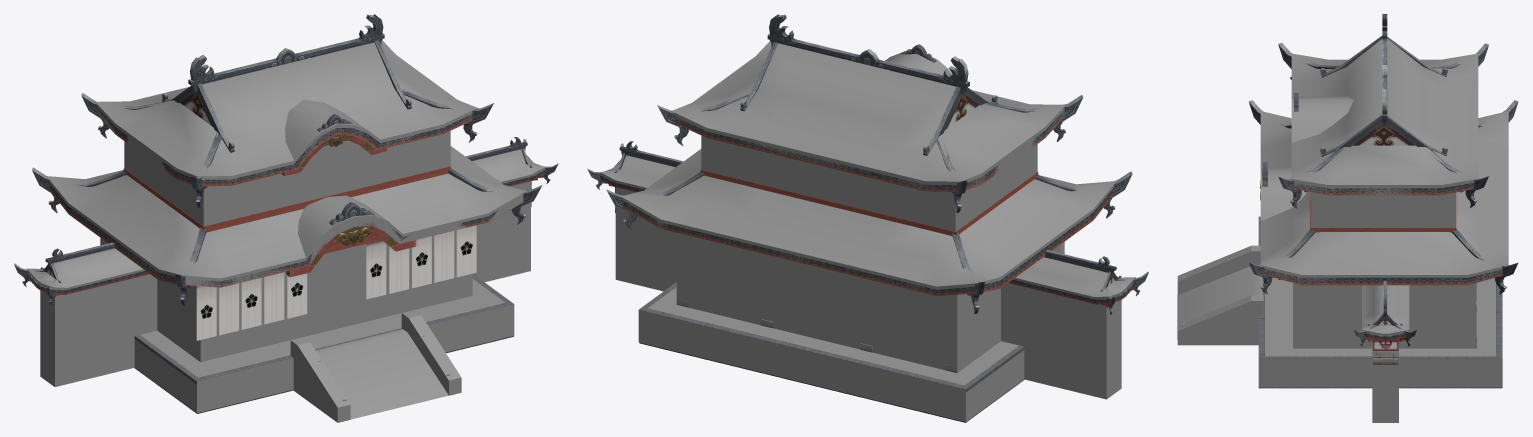
File: Scene_Build_LiangShan_ZhuDian_1.FBX
3 views of the same model, side by side, from view 1: azimuth 30°, elevation 25°; view 2: azimuth 150°, elevation 25°; view 3: azimuth 270°, elevation 25° (orthographic). The views are drawn at different scales.
Parts seen in each view (by area): view 1: Scene_Build_LiangShan_ZhuDian_1_Xzm, Scene_Build_LiangShan_ZhuDian_1a, Scene_Build_LiangShan_ZhuDian_1b; view 2: Scene_Build_LiangShan_ZhuDian_1_Xzm, Scene_Build_LiangShan_ZhuDian_1a, Scene_Build_LiangShan_ZhuDian_1b; view 3: Scene_Build_LiangShan_ZhuDian_1_Xzm, Scene_Build_LiangShan_ZhuDian_1a, Scene_Build_LiangShan_ZhuDian_1b.
Part boxes in pixels (bbox=[...]): Scene_Build_LiangShan_ZhuDian_1_Xzm: bbox=[26, 40, 545, 422]; Scene_Build_LiangShan_ZhuDian_1a: bbox=[14, 14, 558, 340]; Scene_Build_LiangShan_ZhuDian_1b: bbox=[134, 274, 513, 413]; Scene_Build_LiangShan_ZhuDian_1_Xzm: bbox=[601, 41, 1135, 421]; Scene_Build_LiangShan_ZhuDian_1a: bbox=[587, 14, 1148, 372]; Scene_Build_LiangShan_ZhuDian_1b: bbox=[639, 282, 1024, 422]; Scene_Build_LiangShan_ZhuDian_1_Xzm: bbox=[1177, 39, 1508, 422]; Scene_Build_LiangShan_ZhuDian_1a: bbox=[1249, 14, 1518, 364]; Scene_Build_LiangShan_ZhuDian_1b: bbox=[1182, 216, 1502, 388].
Bounding box in the file's own units: 5412 × 2923 × 3408.
